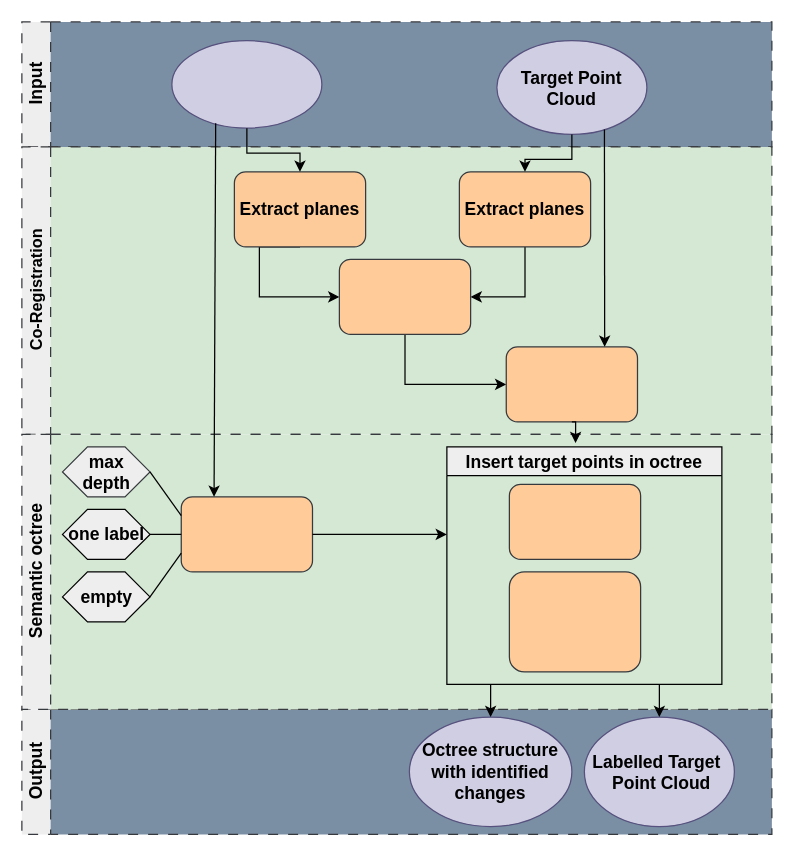
The diagram is 794 pixels wide and 856 high, and some of its shapes have lost their labels. The centre of each missing label's shape, as x and y in pixels:
"Apply transformation" goes at (x=571, y=384).
"Build up octree with leaf criteria" goes at (x=246, y=534).
"Change detection considering queried leaves" goes at (x=574, y=621).
"Iterative convergence" goes at (x=404, y=296).
"Label points" goes at (x=574, y=521).
"Source Point Cloud" goes at (x=246, y=83).
